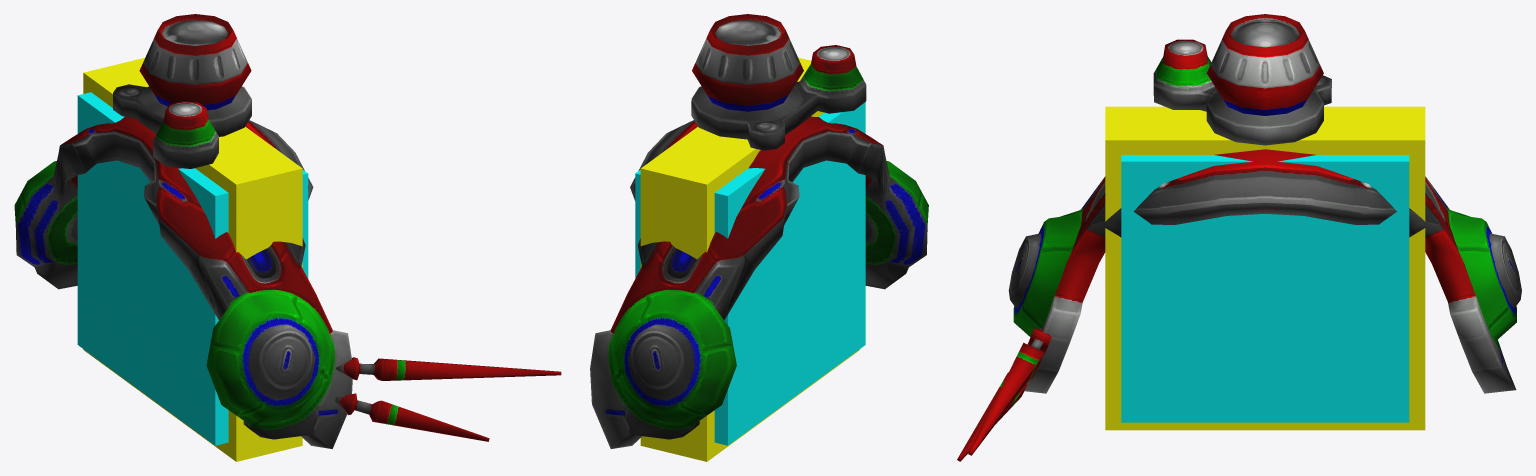
3 renders of one model, left to right at view 1: azimuth 30°, elevation 25°; view 2: azimuth 150°, elevation 25°; view 3: azimuth 270°, elevation 25°, orthographic. The views are drawn at different scales.
Parts seen in each view (by area): view 1: object0005_K1293, object0042_Box, object0039_Box; view 2: object0005_K1293, object0042_Box, object0039_Box; view 3: object0042_Box, object0005_K1293, object0039_Box.
Boxes of the visible parts, bbox=[...] form: object0005_K1293: bbox=[14, 14, 561, 448]; object0042_Box: bbox=[77, 92, 308, 445]; object0039_Box: bbox=[83, 57, 302, 461]; object0005_K1293: bbox=[590, 14, 928, 448]; object0042_Box: bbox=[635, 102, 865, 445]; object0039_Box: bbox=[640, 57, 859, 461]; object0042_Box: bbox=[1121, 155, 1409, 422]; object0005_K1293: bbox=[957, 14, 1521, 461]; object0039_Box: bbox=[1105, 106, 1425, 430].
Bounding box in the file's own units: 0.5974 × 0.6812 × 0.897.
